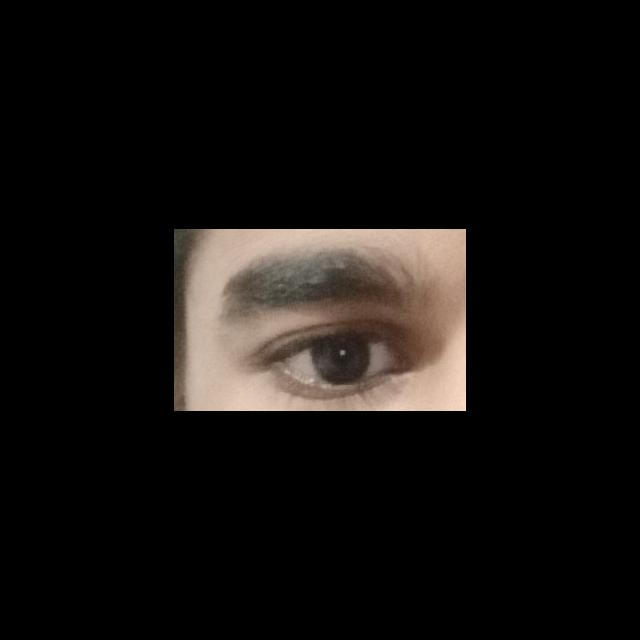eye: (278, 333, 398, 385)
iris: (311, 336, 372, 384)
